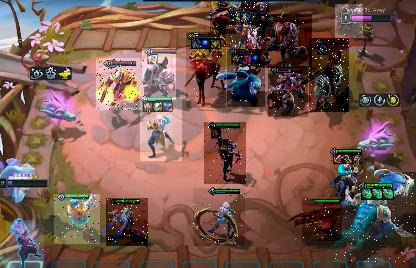1_bard: (210, 2, 236, 34)
1_braum: (335, 4, 363, 38)
1_senna: (302, 199, 342, 241)
1_soraka: (106, 198, 148, 246)
1_yasuo: (6, 221, 44, 268)
2_aphelios: (204, 122, 246, 184)
2_aurelionsol: (335, 174, 415, 262)
2_braum: (142, 48, 176, 100), (241, 1, 269, 25)
2_diana: (230, 10, 258, 48)
2_graves: (330, 147, 366, 199)
2_hecarim: (256, 14, 312, 68)
2_leesin: (140, 97, 182, 161)
2_nunu: (227, 49, 265, 107)
2_qiyana: (193, 188, 245, 246)
2_rell: (309, 38, 349, 112)
2_sejuani: (268, 67, 308, 117)
2_zeri: (54, 194, 100, 244)
3_lillia: (186, 32, 226, 108)
3_olaf: (96, 58, 142, 110)
